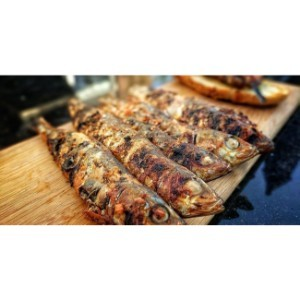sardine_brain food: (55, 92, 279, 223)
